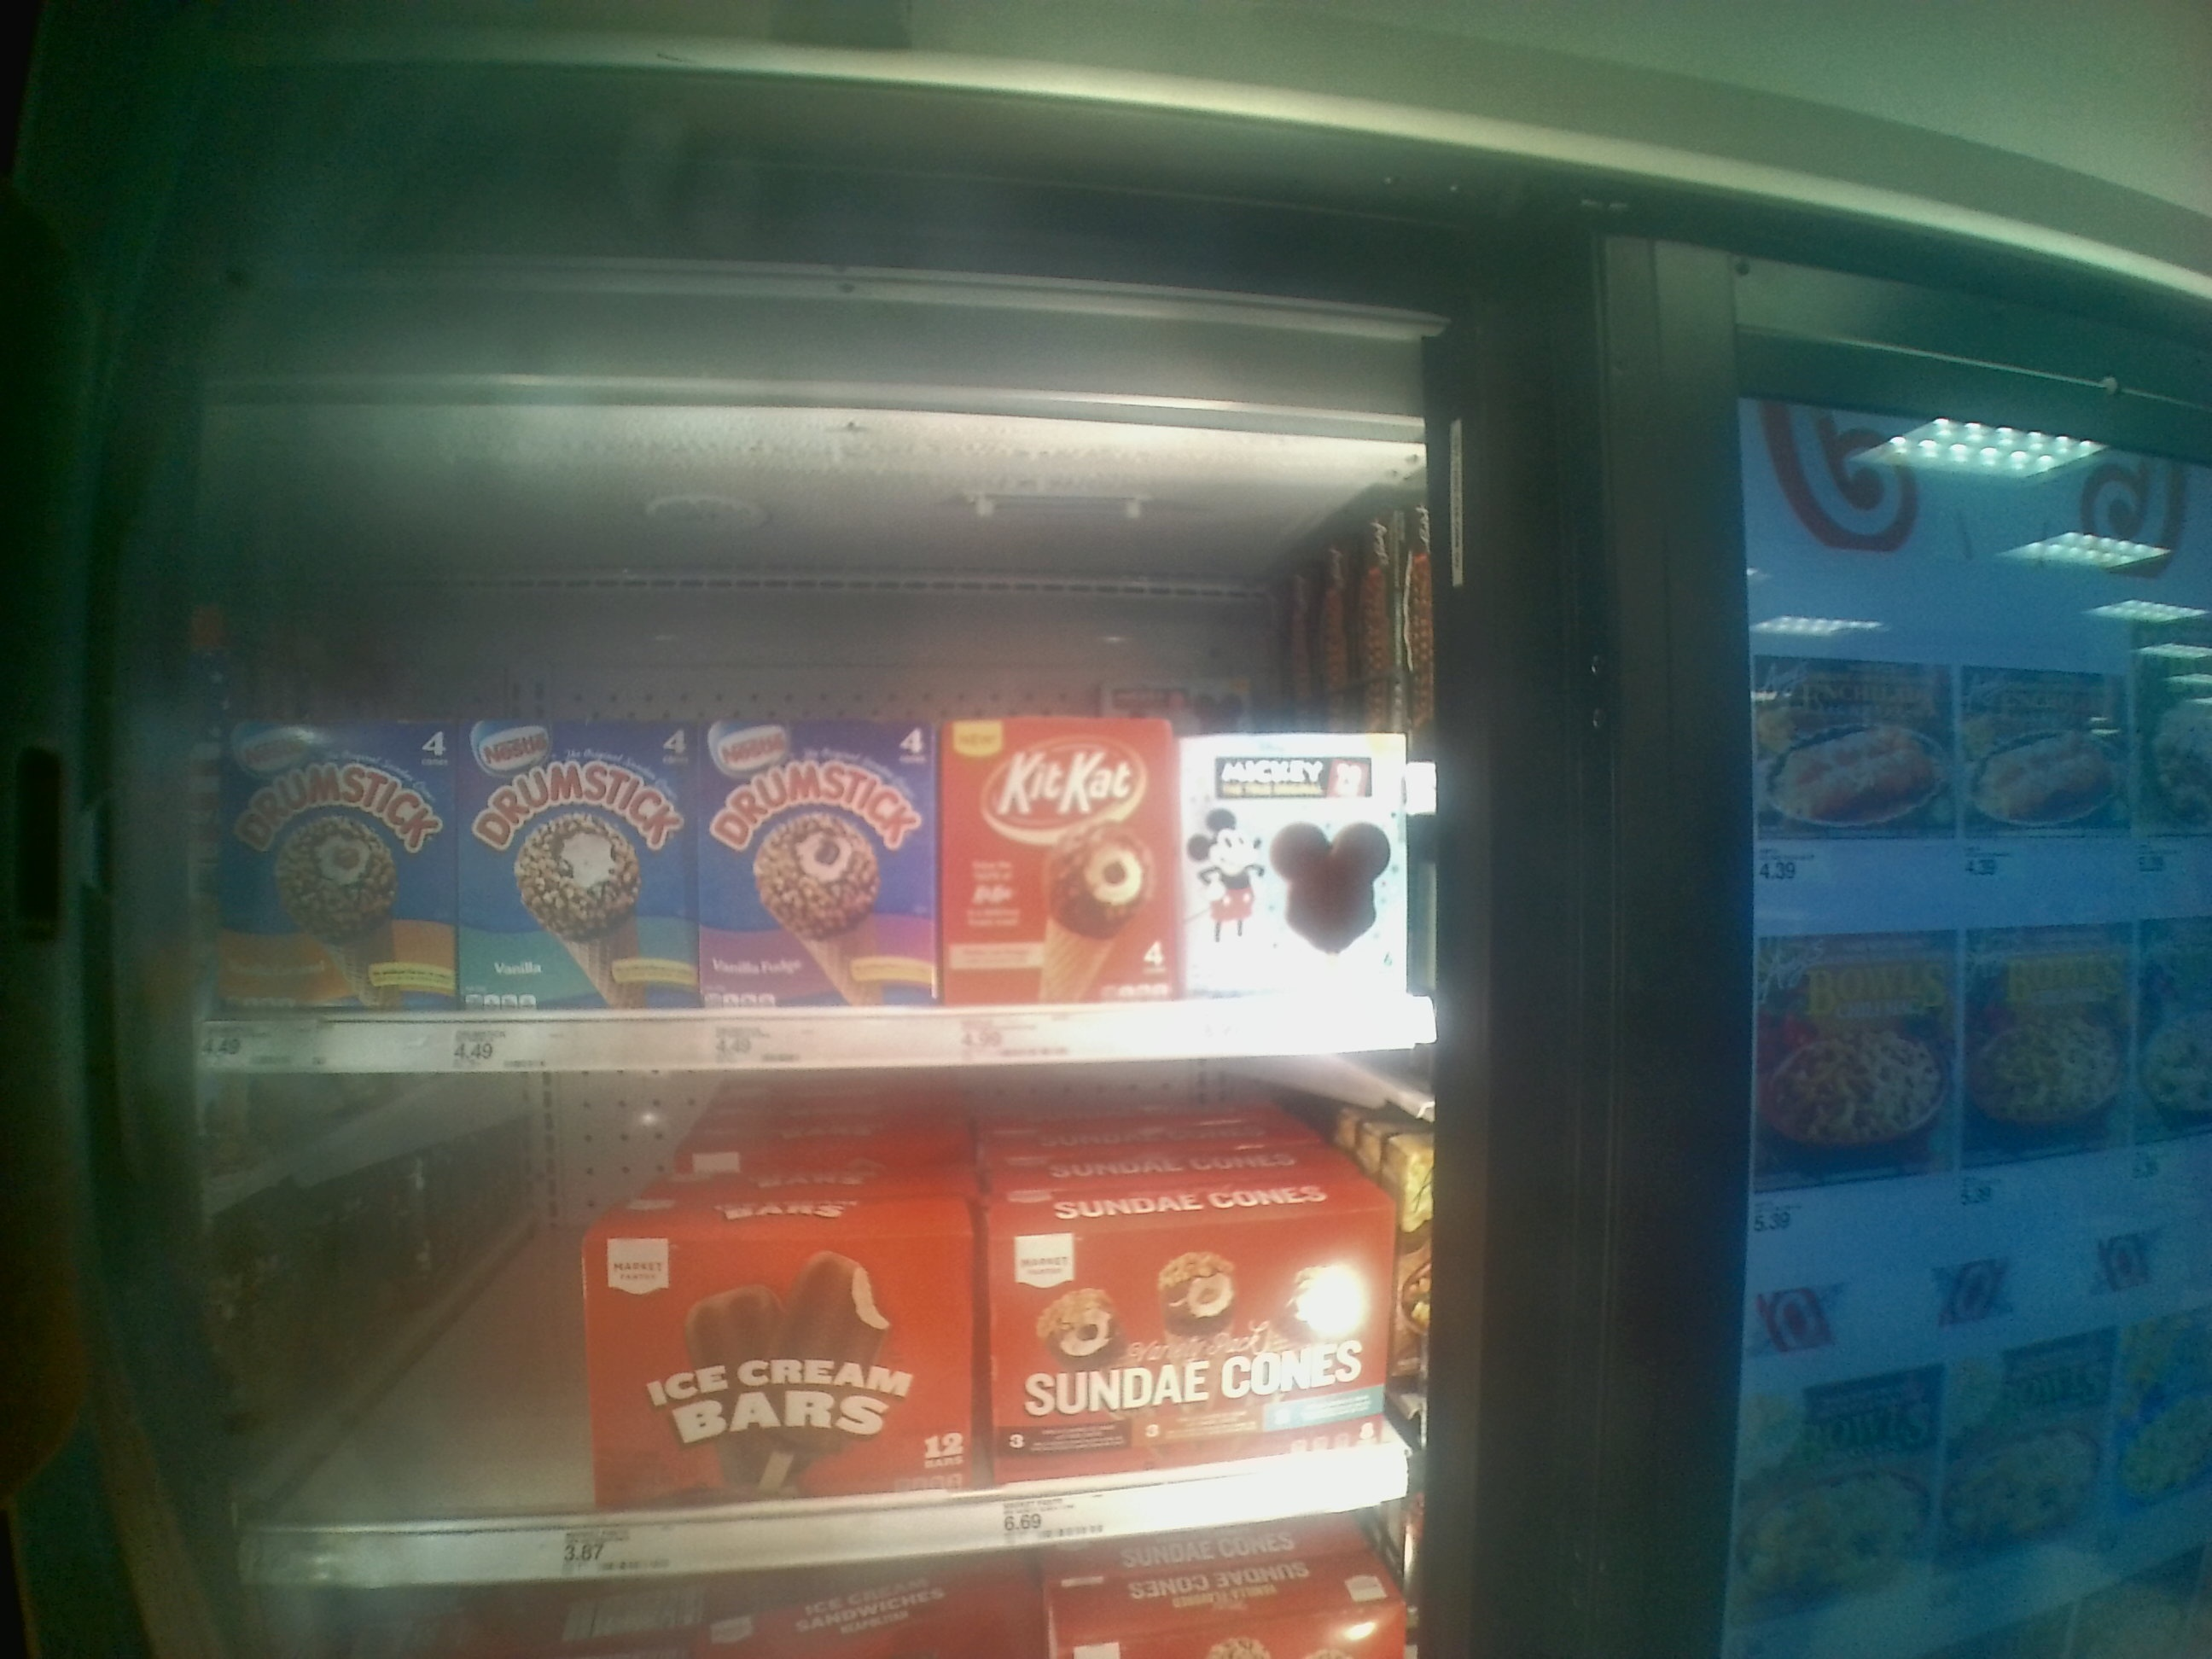frozen-food-shelf: (139, 443, 1446, 1075), (136, 1073, 1465, 1588)
